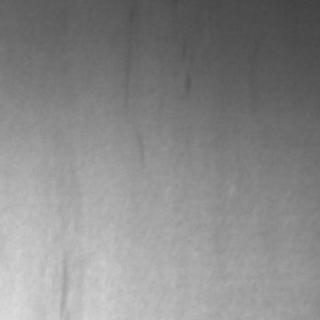inclusion: (102, 2, 150, 102), (47, 247, 75, 317)
